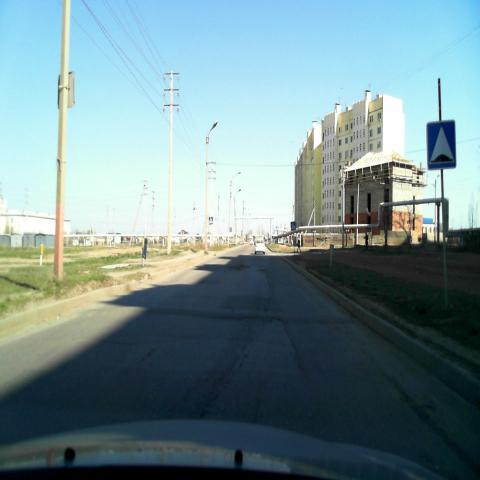5_20: (426, 119, 456, 168)
